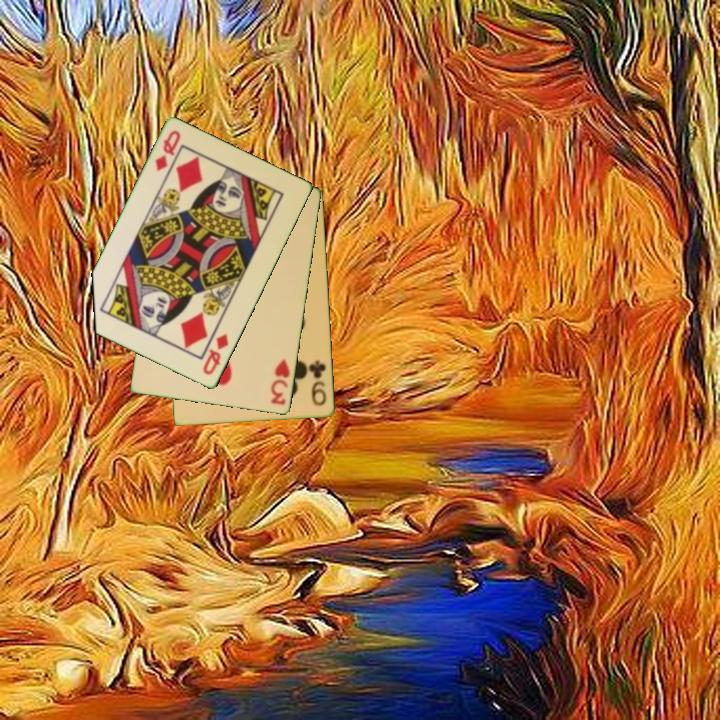3h: (267, 356, 293, 408)
9c: (306, 357, 330, 409)
Qd: (199, 330, 232, 378), (151, 127, 184, 174)
